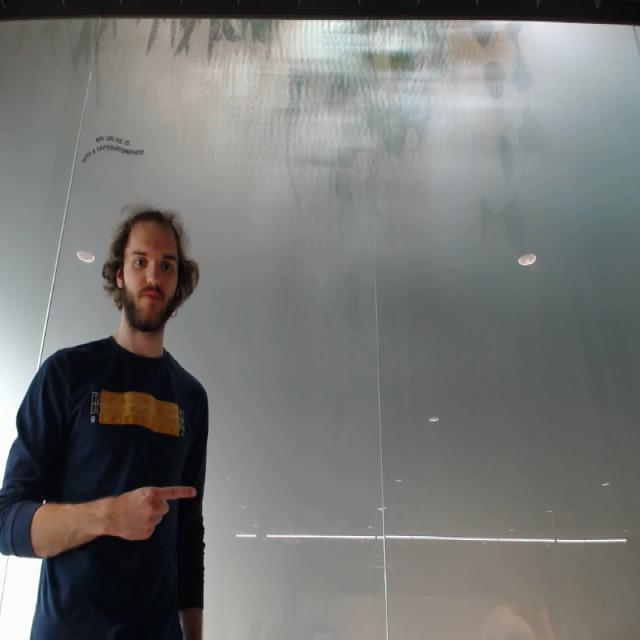right: (114, 480, 201, 549)
